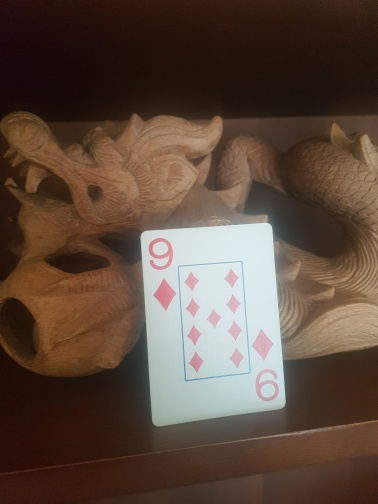nine: (141, 223, 288, 427)
